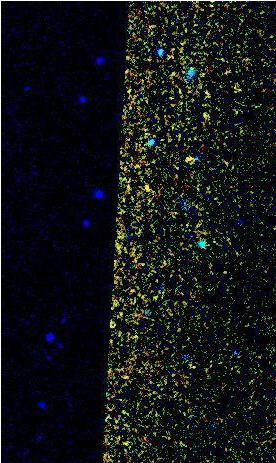star: (176, 145, 206, 175)
